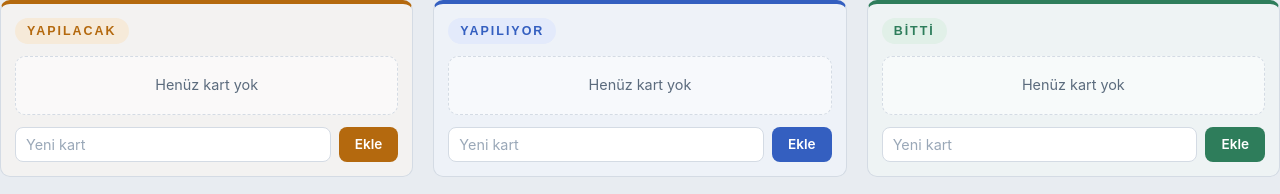
yeni kart eklenince kolonda görünür ve API'ye kaydedilir
In the field named "Yapılacak kolonuna yeni kart": [173, 144] box [15, 127, 331, 162], type "Yeni görev"
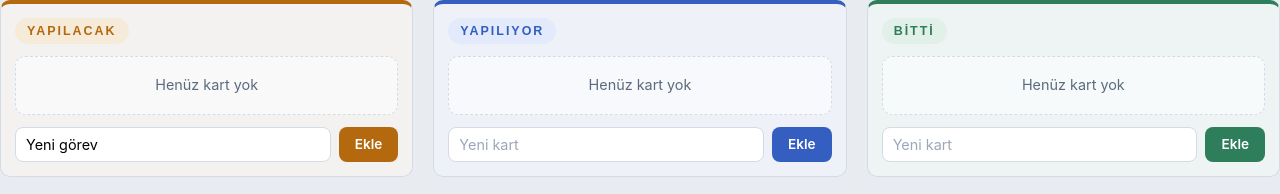
Click the button "Ekle" below "Yapılacak": [369, 144] box [339, 127, 398, 162]
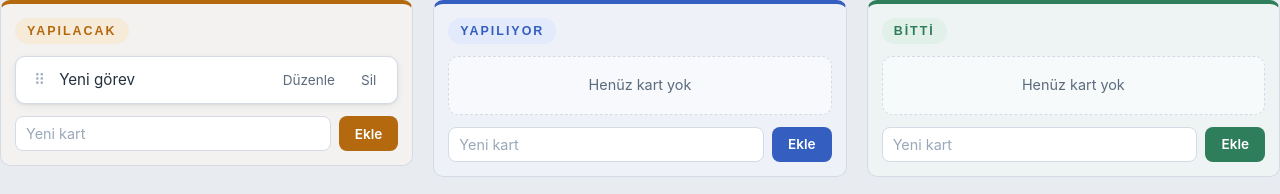
expect the text "Yeni görev" is shown: met, box [59, 70, 135, 89]
expect the field named "Yapılacak kolonuna yeni kart" is empty: met, box [15, 116, 331, 151]
